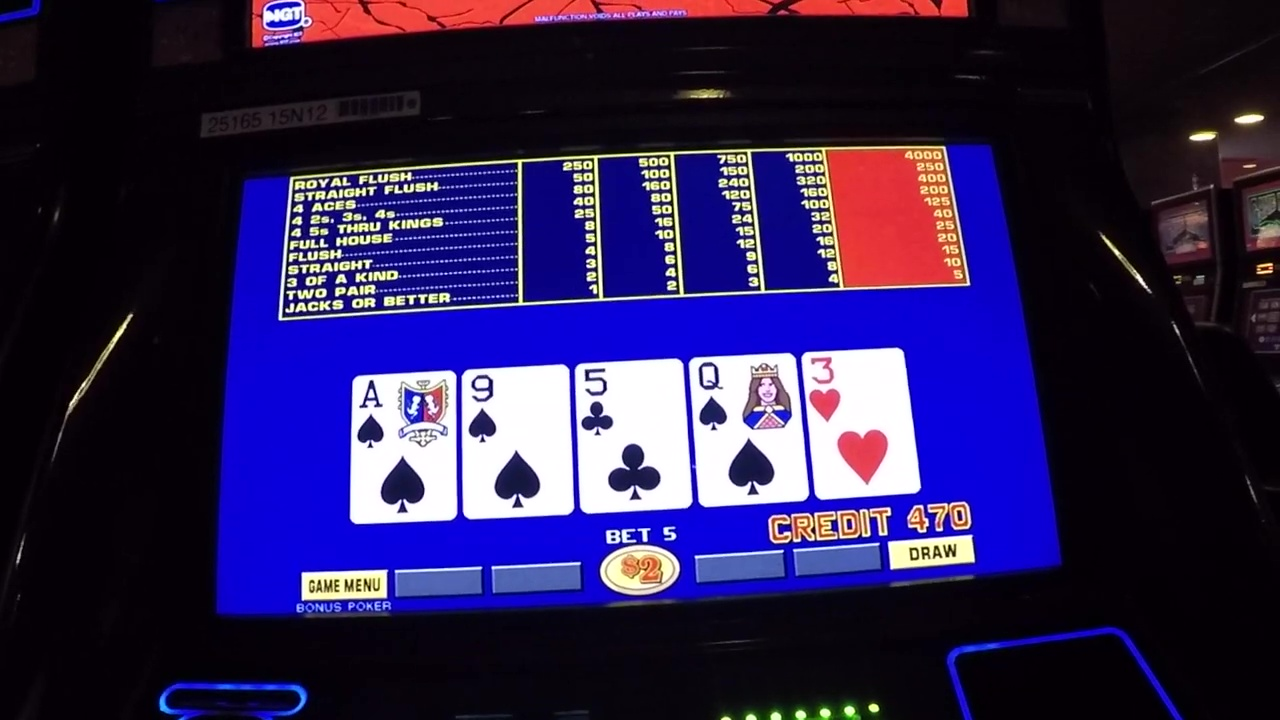C5: (578, 365, 684, 437)
H3: (810, 355, 906, 425)
S9: (465, 370, 567, 447)
SA: (354, 375, 458, 448)
SQ: (694, 360, 795, 434)
